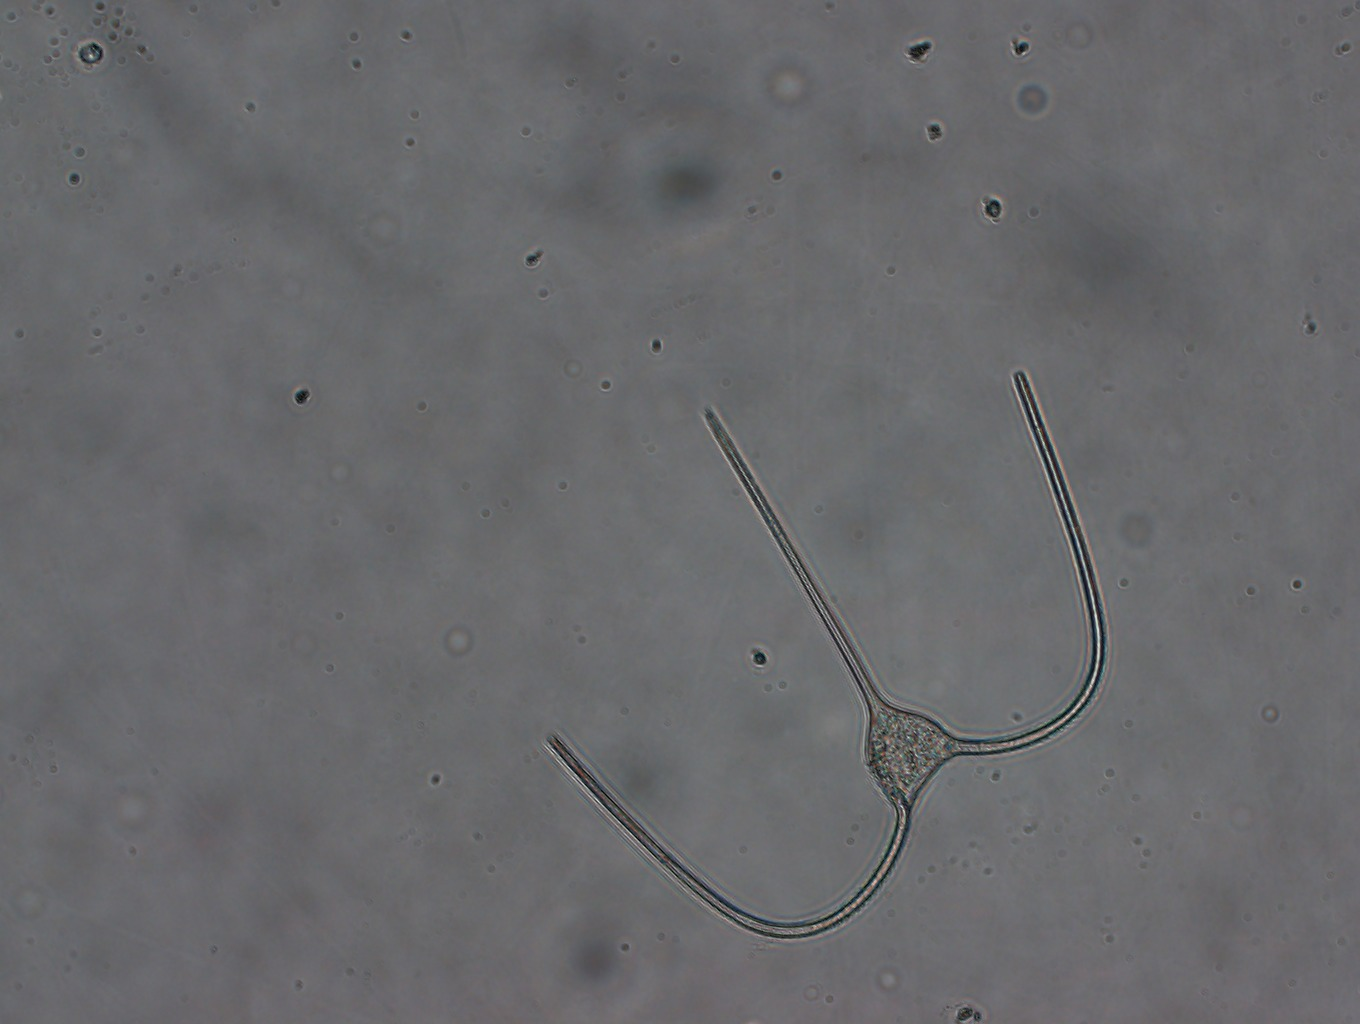ceratium trichoceros: (543, 370, 1106, 940)
